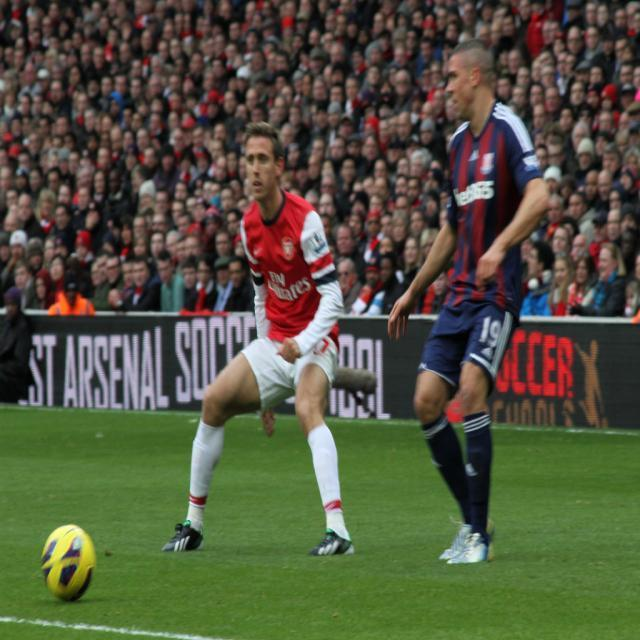football: (25, 505, 114, 604)
